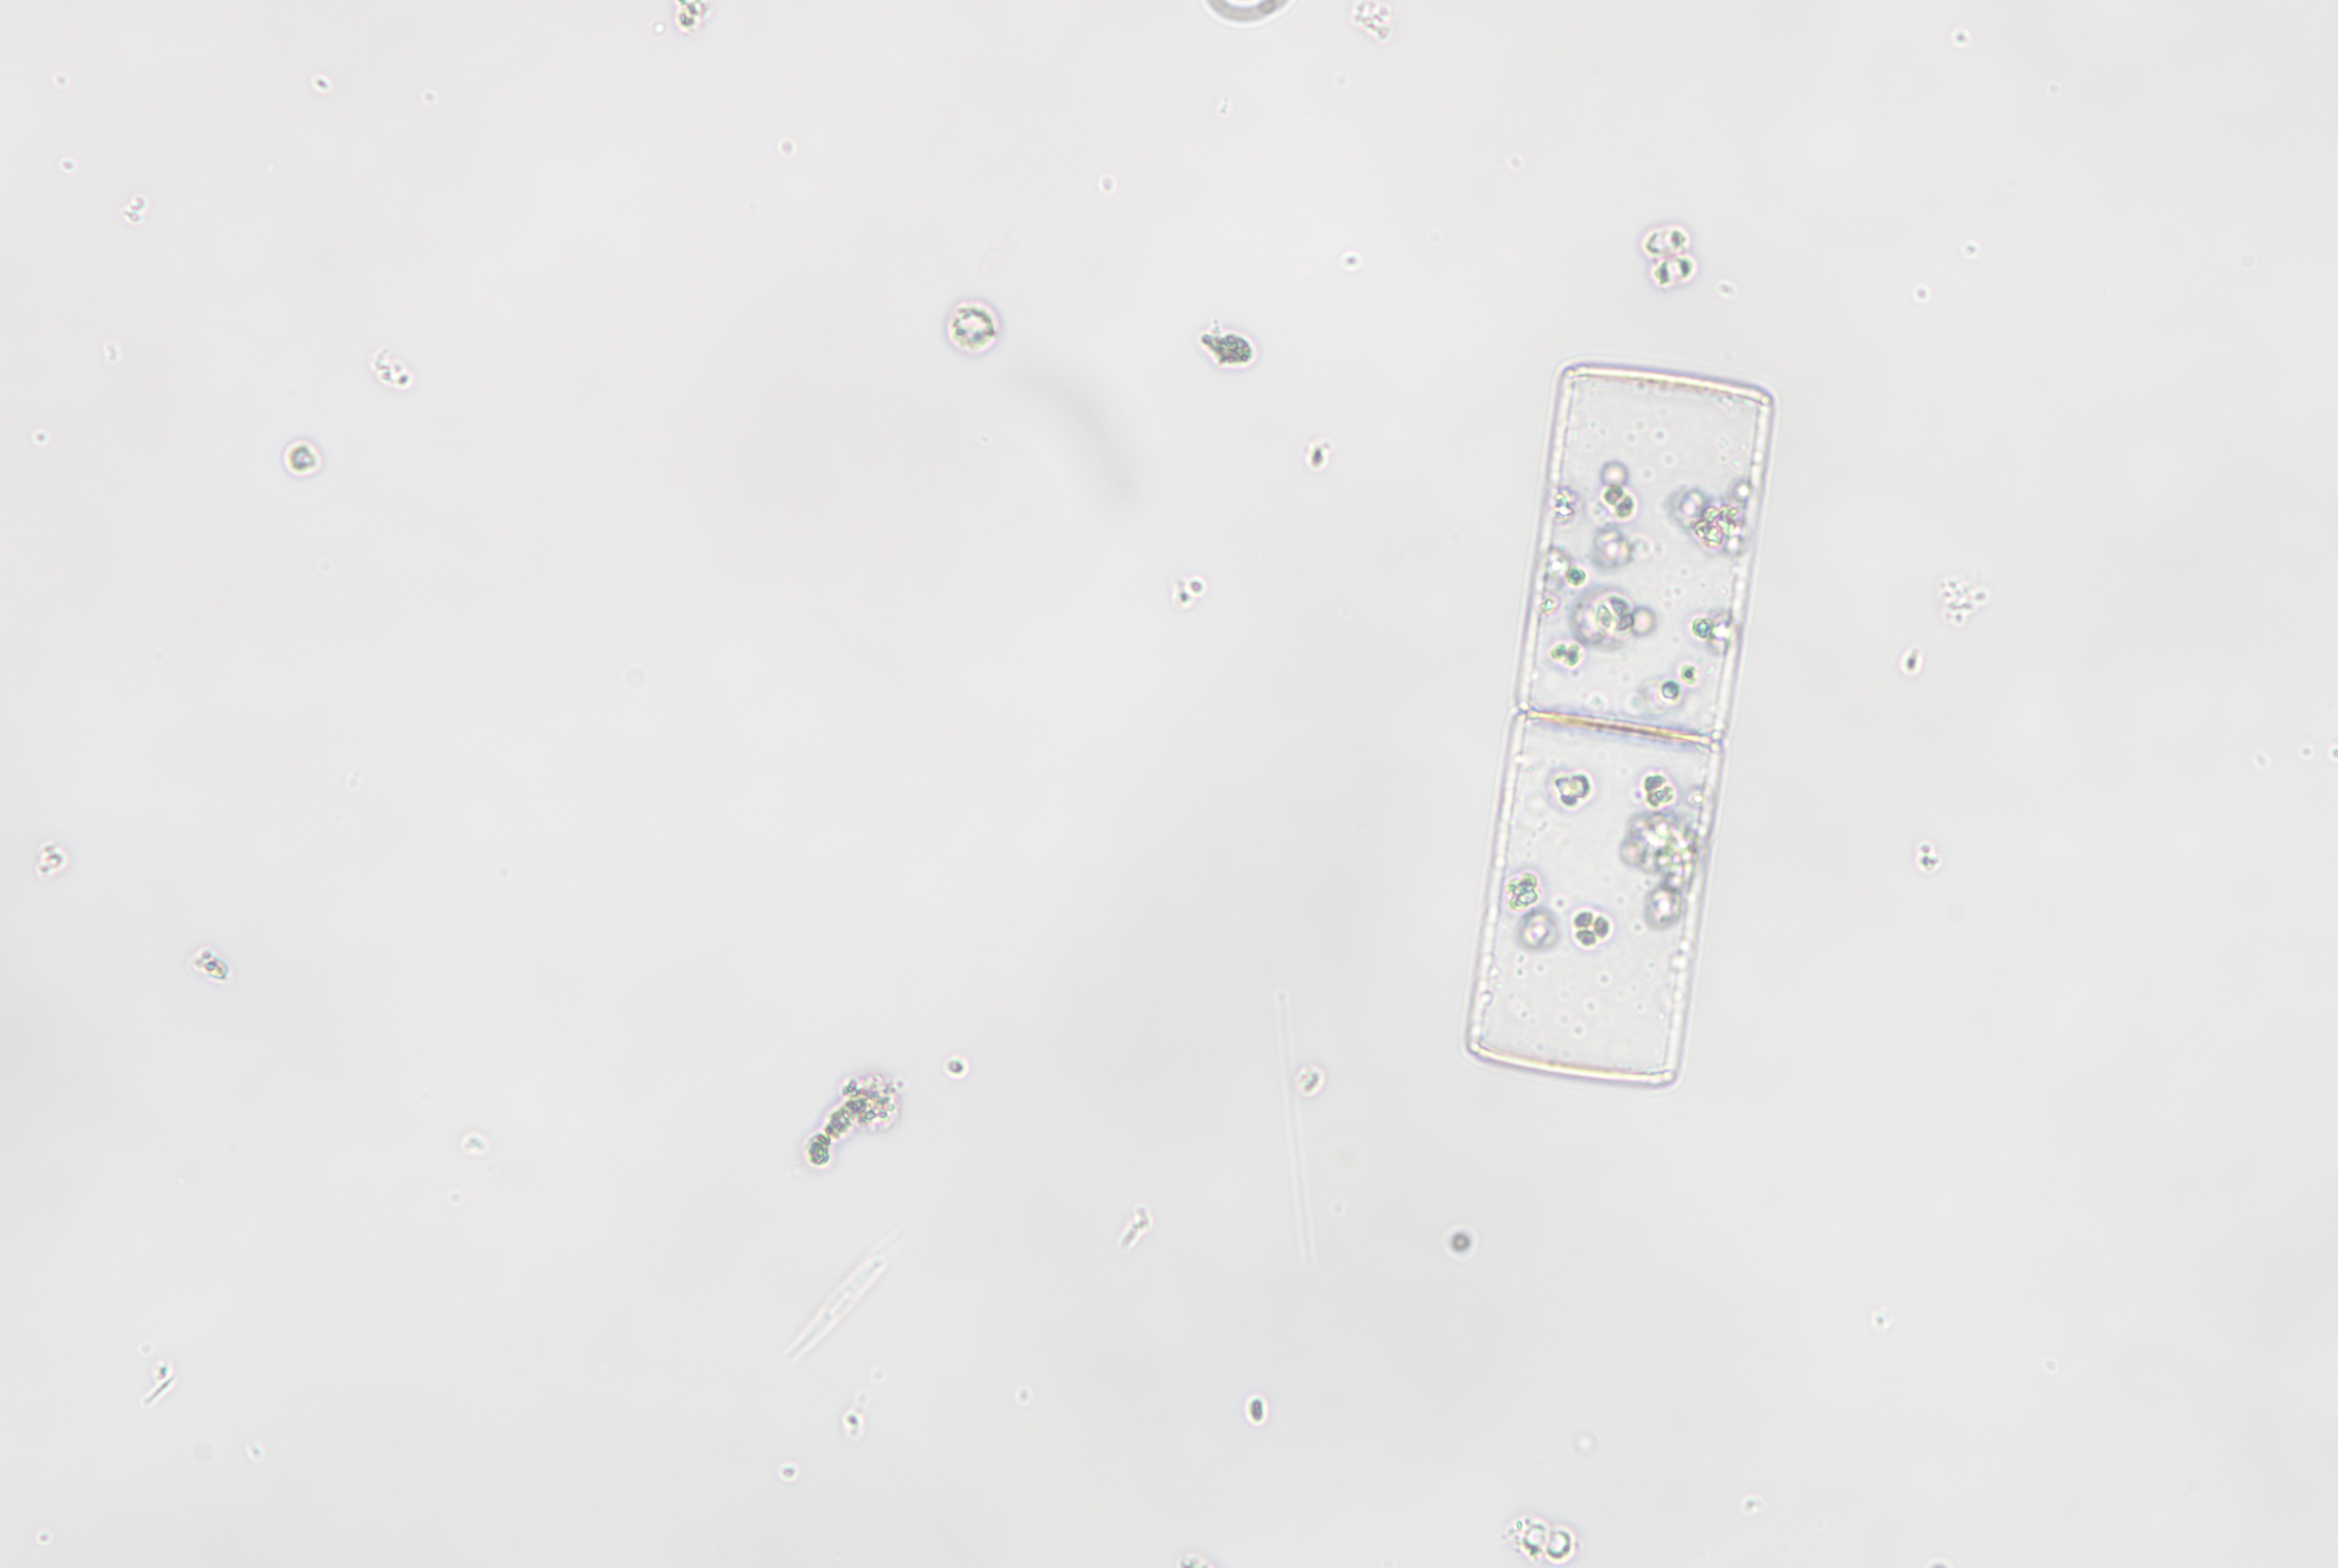guinardia flaccida: (1467, 362, 1771, 1090)
